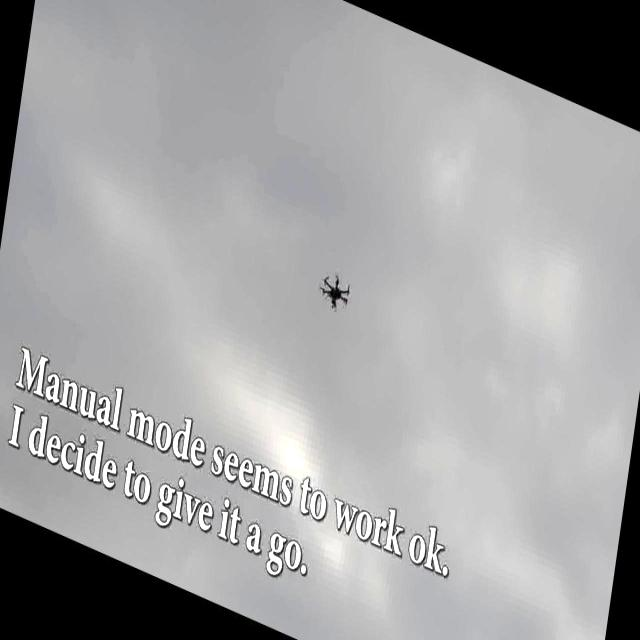drone: (315, 263, 355, 318)
